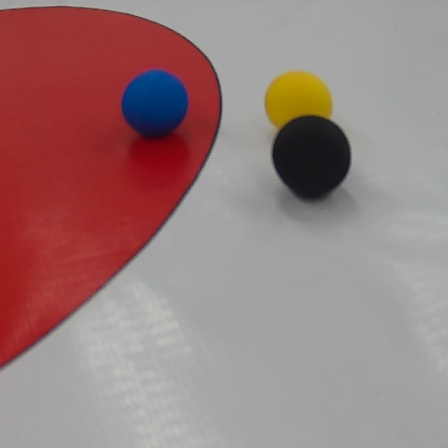black: (274, 115, 353, 203)
blue: (116, 63, 191, 139)
red_base: (1, 6, 223, 365)
yellow: (258, 69, 336, 129)
